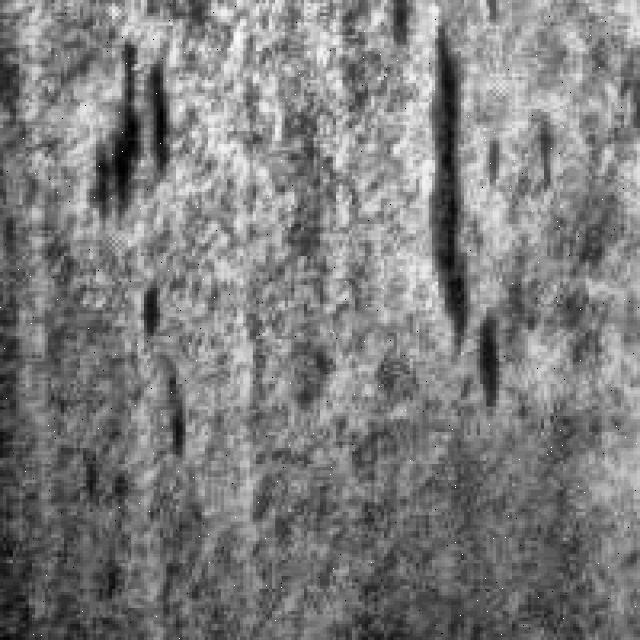Patches: (429, 9, 525, 417), (84, 26, 198, 228), (131, 266, 208, 467)
